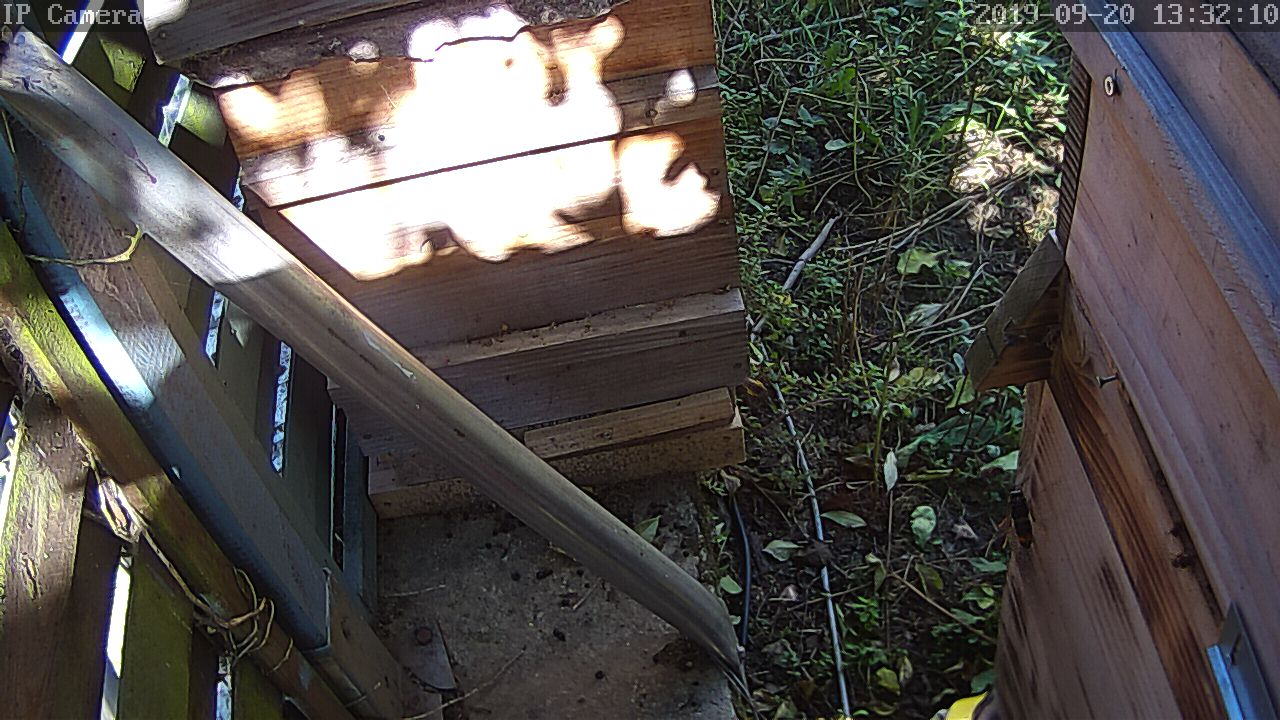bee: (1166, 543, 1197, 571)
hornet: (999, 481, 1048, 558)
